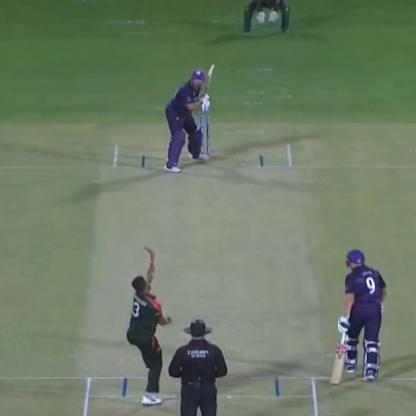bat: (331, 325, 350, 387), (199, 60, 218, 104)
pitch: (72, 146, 320, 416)
